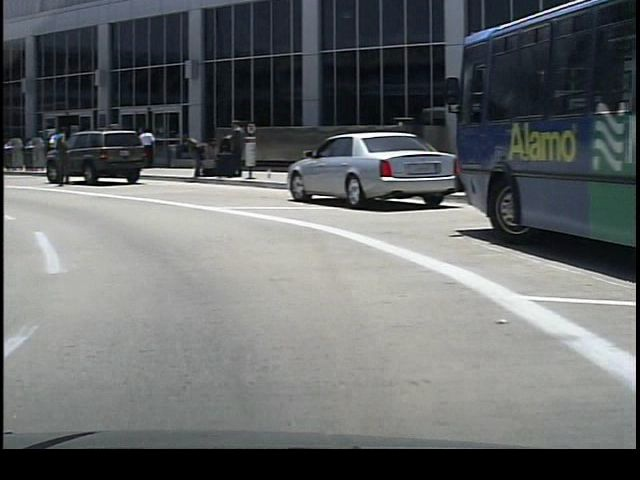person: (47, 117, 75, 194), (183, 131, 212, 185), (221, 120, 241, 180), (132, 127, 154, 170)
